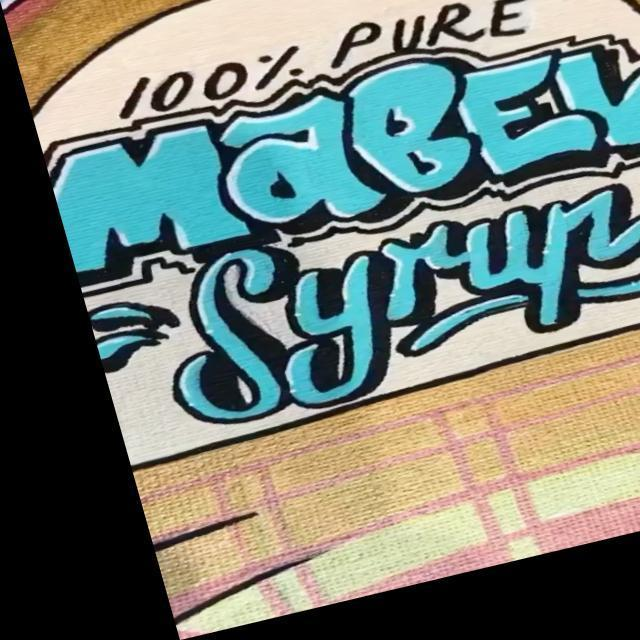-: (30, 11, 640, 299), (66, 175, 640, 469)
